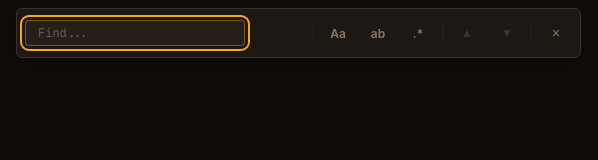
Test case: TerminalSearchBar › clears decorations and resets count when query is emptied
The width and height of the screenshot is (598, 160).
// Type something, get results
Step 1. Type "error" into the field with placeholder "Find..." → coordinates (135, 33), box [25, 20, 245, 46]
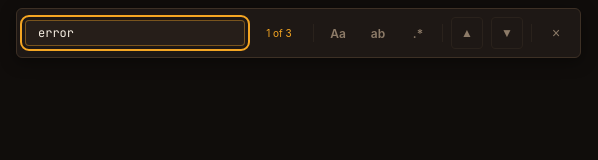
Result: the text "1 of 3" is shown at [266, 27, 292, 39]
// Clear the input
Step 2. Clear the field with placeholder "Find..." → coordinates (135, 33), box [25, 20, 245, 46]
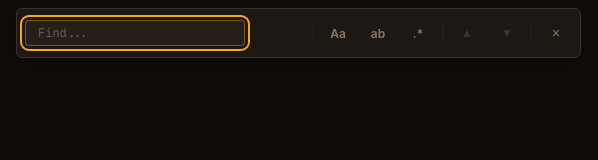
Result: the text "1 of 3" is gone
